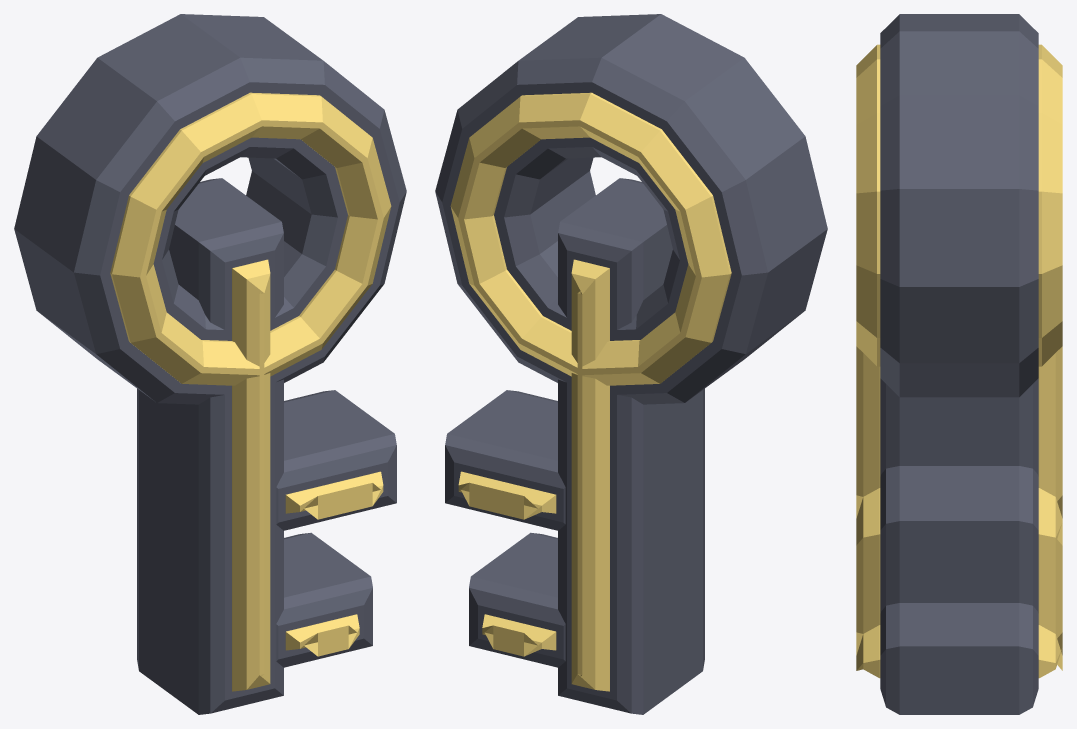
File: game-ui-icon-library-key-cfb50c93__18998.glb
3 views of the same model, side by side, from view 1: azimuth 30°, elevation 25°; view 2: azimuth 150°, elevation 25°; view 3: azimuth 270°, elevation 25° (orthographic).
Parts seen in each view (by area): view 1: key; view 2: key; view 3: key.
Part boxes in pixels (box(x1,y1,x2,y2)): key: box(14, 14, 406, 714); key: box(435, 14, 827, 714); key: box(856, 14, 1062, 714).
Bounding box in the file's own units: 0.5062 × 0.94 × 0.2711.
